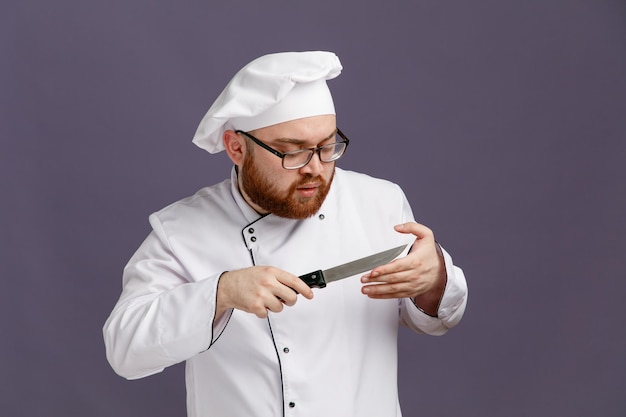knife: (296, 241, 408, 290)
